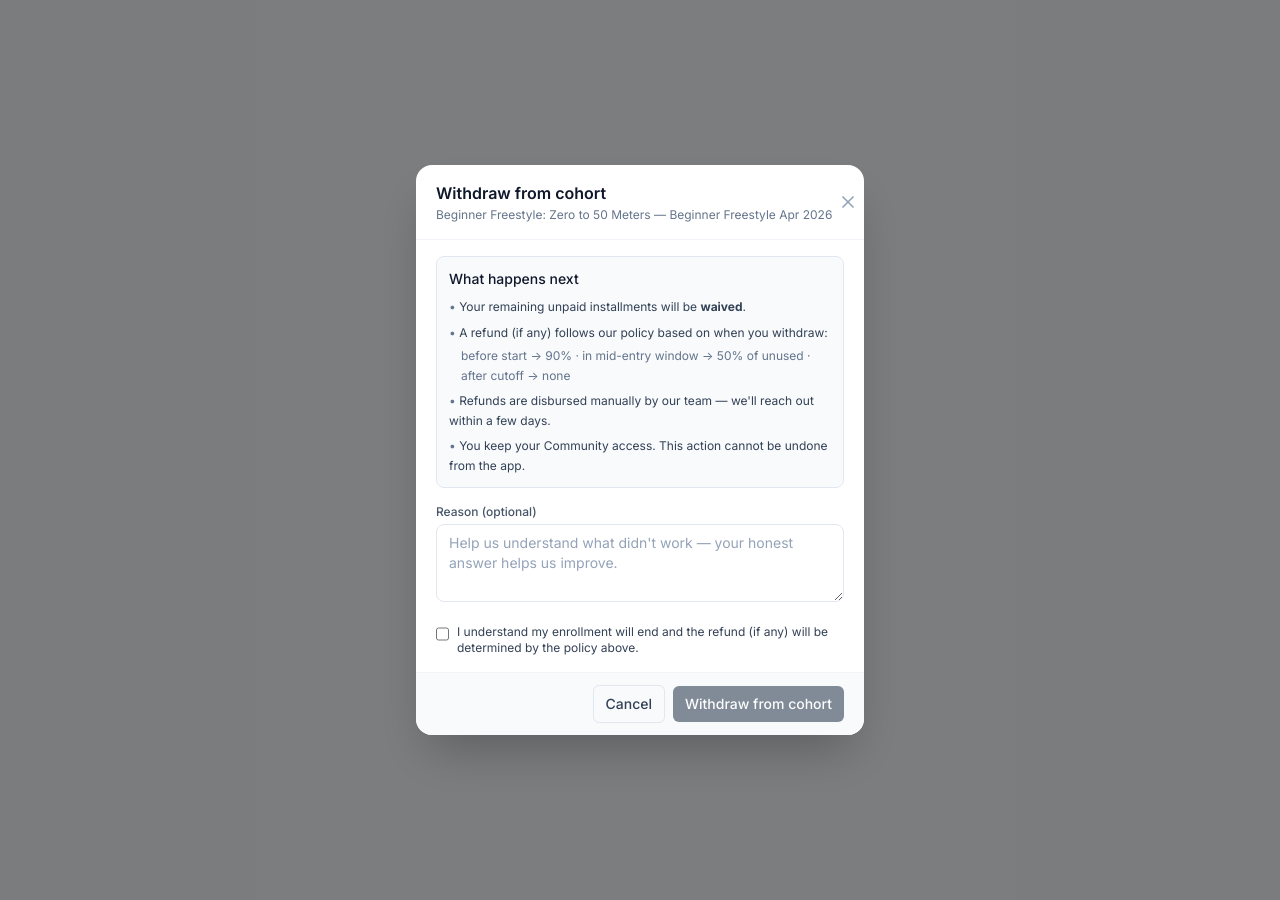
it: WithdrawEnrollmentModal › disables the submit button until confirmation checkbox is ticked
Check: the button "Withdraw from cohort" is disabled, box [673,686,844,722]
Click the checkbox at (442, 634), box [436,626,449,642]
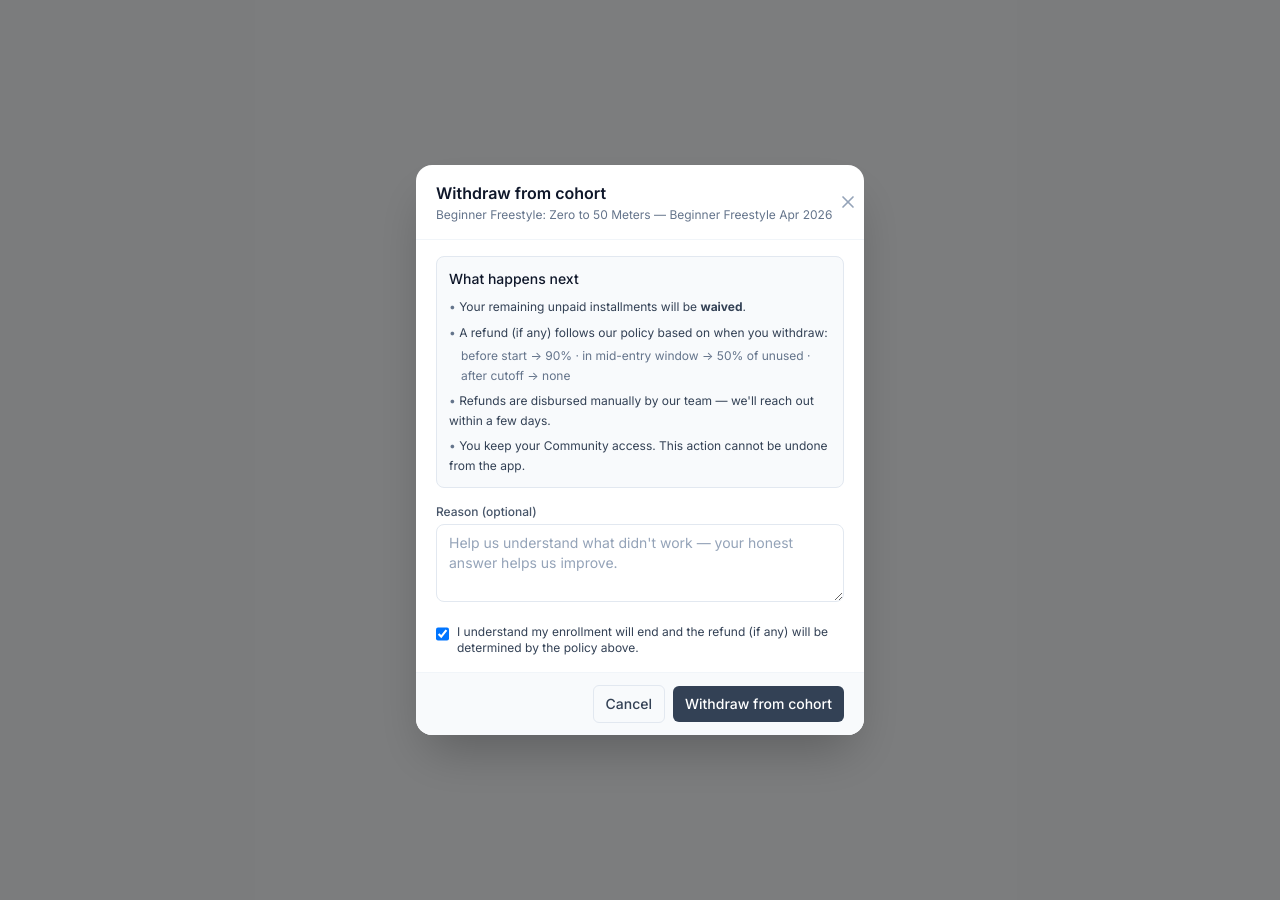
Check: the button "Withdraw from cohort" is enabled, box [673,686,844,722]
